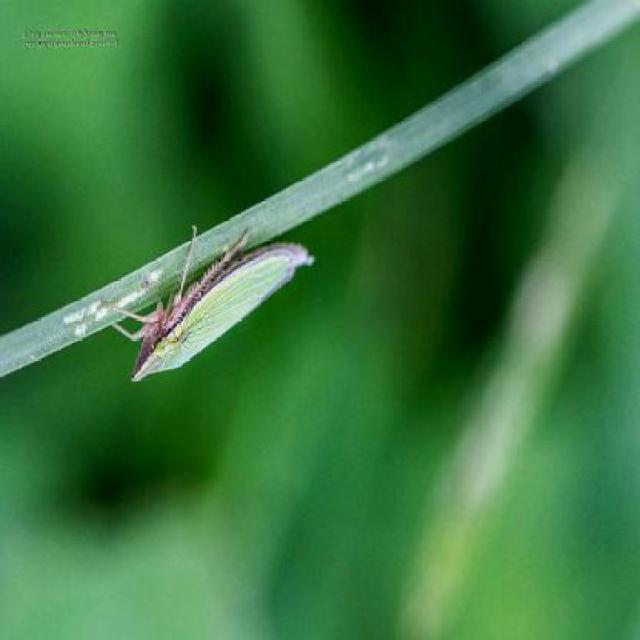green-leafhopper: (132, 215, 312, 382)
